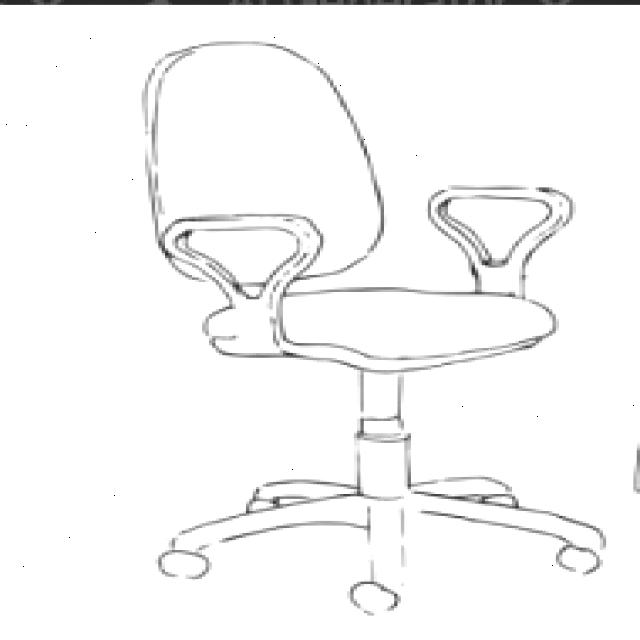5_Star_Base: (144, 467, 615, 621)
Armrest: (142, 204, 343, 339), (424, 185, 578, 300)
Backrest: (141, 39, 386, 288)
Base: (349, 368, 413, 501)
Seat: (201, 288, 562, 377)
